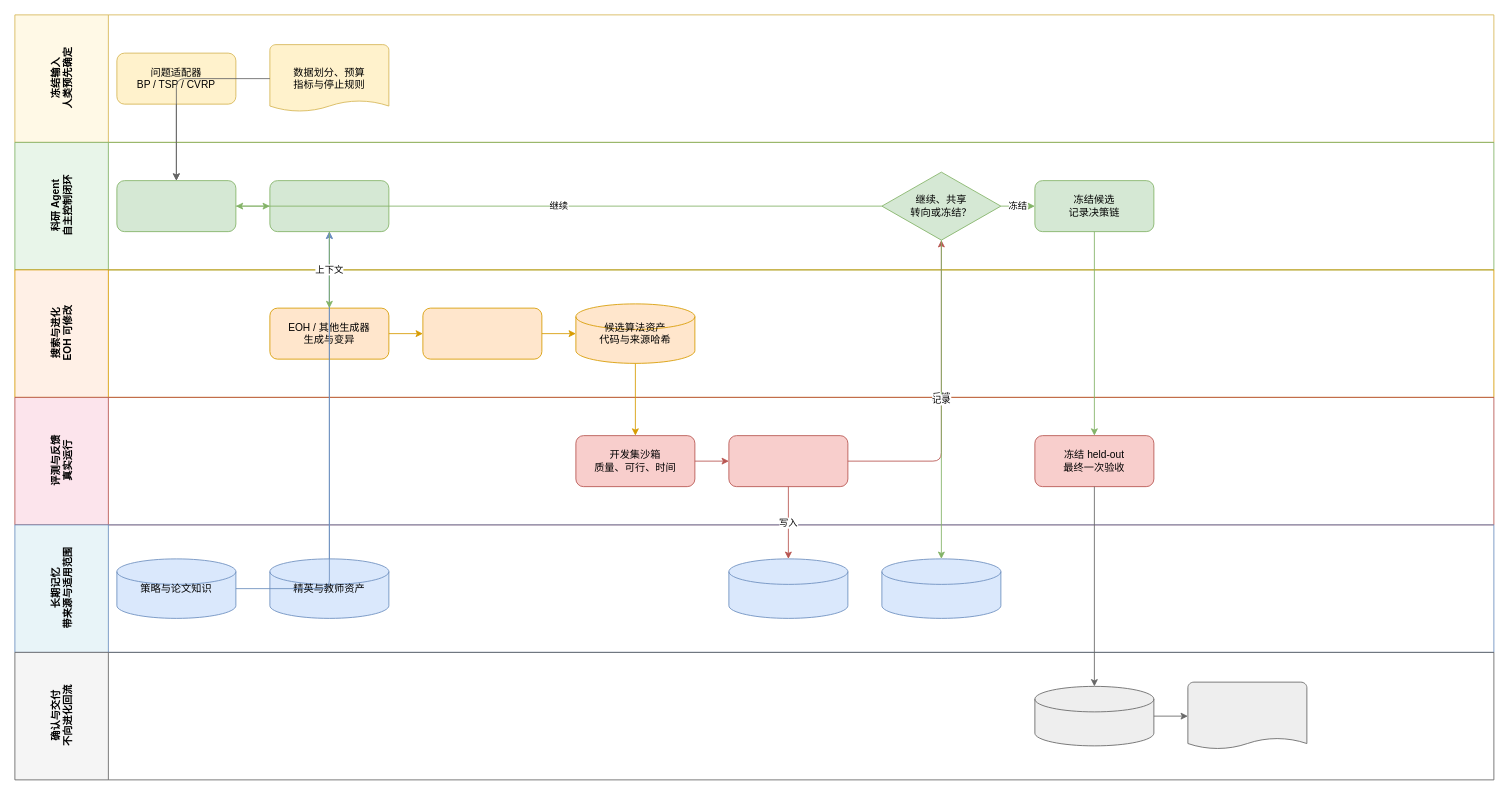
Image size: 1509x795. Some labels were removed from this diagram. Here are the shapes that lost their labels. From the top down, the centre of each, then its label:
At point (176, 206): "研究控制器 选择唯一下一步".
At point (329, 206): "RAG 检索 策略、精英、失败".
At point (482, 333): "多种群协调 隔离、去重、共享".
At point (788, 461): "反馈编译器 形成可行动信息".
At point (788, 588): "失败与复杂度经验".
At point (941, 588): "决策与种群快照".
At point (1094, 716): "跨设备算法资产 manifest 与哈希".
At point (1247, 715): "证据报告 含失败与成本".
